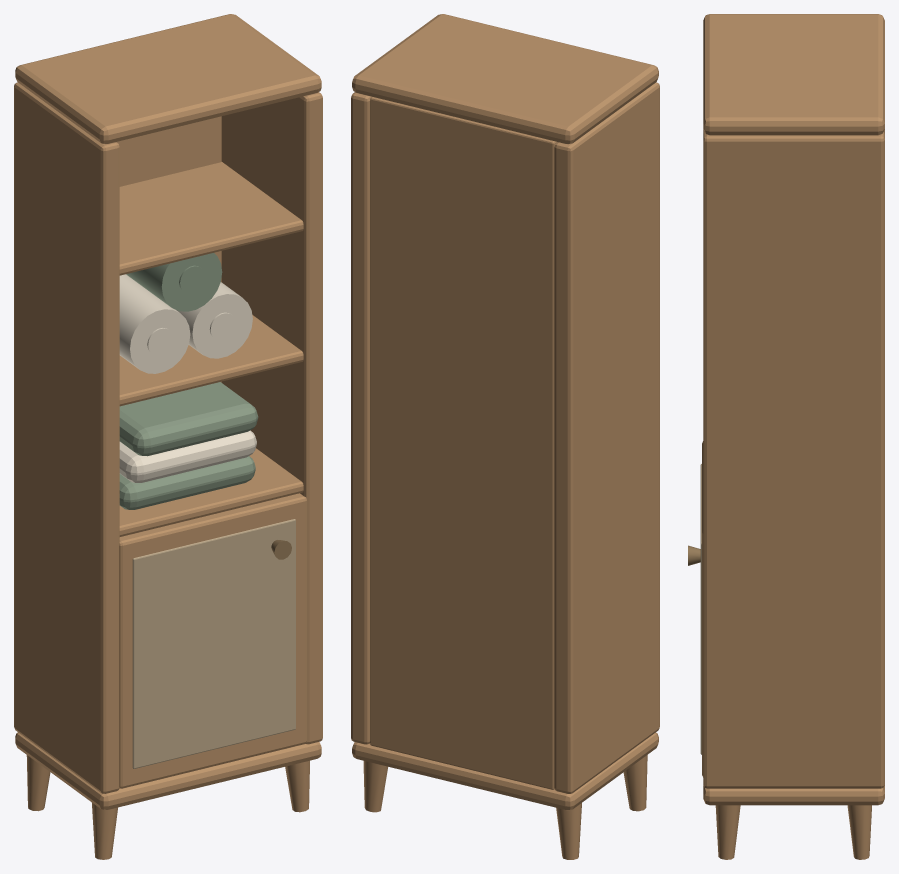
Rendered from storage-linen.glb.
The picture shows the model from 3 angles, left to right: view 1: azimuth 30°, elevation 25°; view 2: azimuth 150°, elevation 25°; view 3: azimuth 270°, elevation 25°; orthographic projection.
Parts seen in each view (by area): view 1: storage-linen; view 2: storage-linen; view 3: storage-linen.
Boxes of the visible parts, <box> form: storage-linen: <box>14,14,322,859</box>; storage-linen: <box>351,14,659,859</box>; storage-linen: <box>688,14,884,859</box>.
Size of the model in its own units: 0.55 by 1.75 by 0.42.
